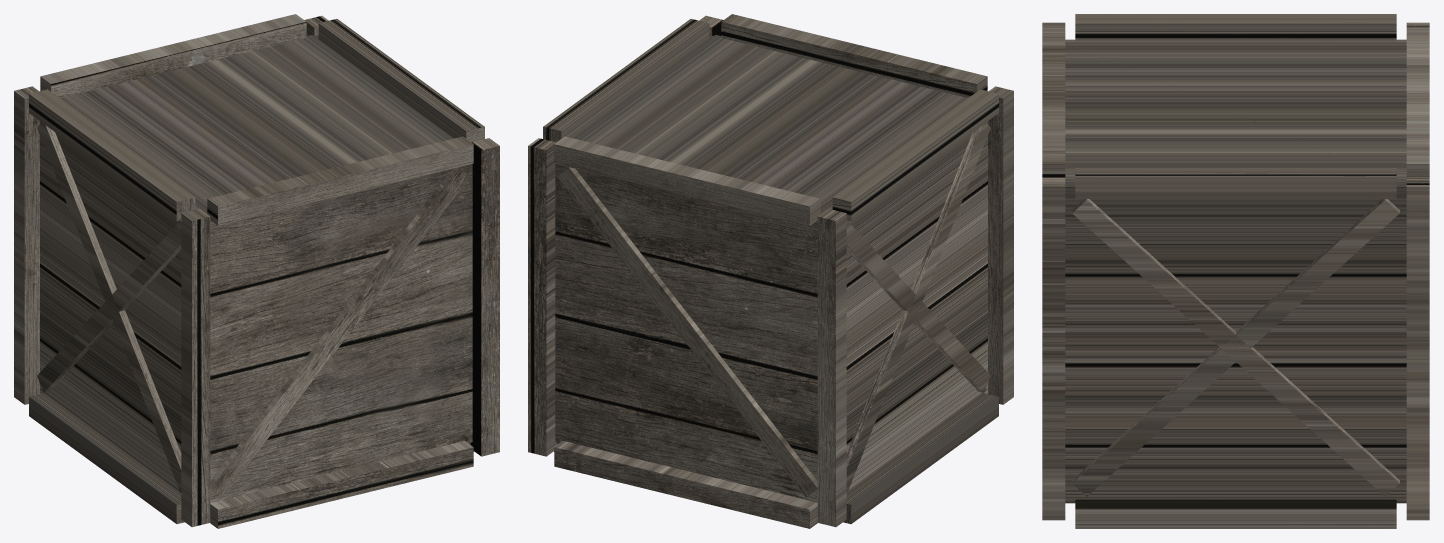
File: crate.glb
The picture shows the model from 3 angles, left to right: view 1: azimuth 30°, elevation 25°; view 2: azimuth 150°, elevation 25°; view 3: azimuth 270°, elevation 25°; orthographic projection. The views are drawn at different scales.
Visible parts, largest first — view 1: Wooden_Crate; view 2: Wooden_Crate; view 3: Wooden_Crate.
Part boxes in pixels (<box>): Wooden_Crate: <box>14,14,499,528</box>; Wooden_Crate: <box>528,14,1013,528</box>; Wooden_Crate: <box>1042,14,1429,528</box>.
Bounding box in the file's own units: 2 × 2 × 2.
Materials: 1 (1 with a texture image).
